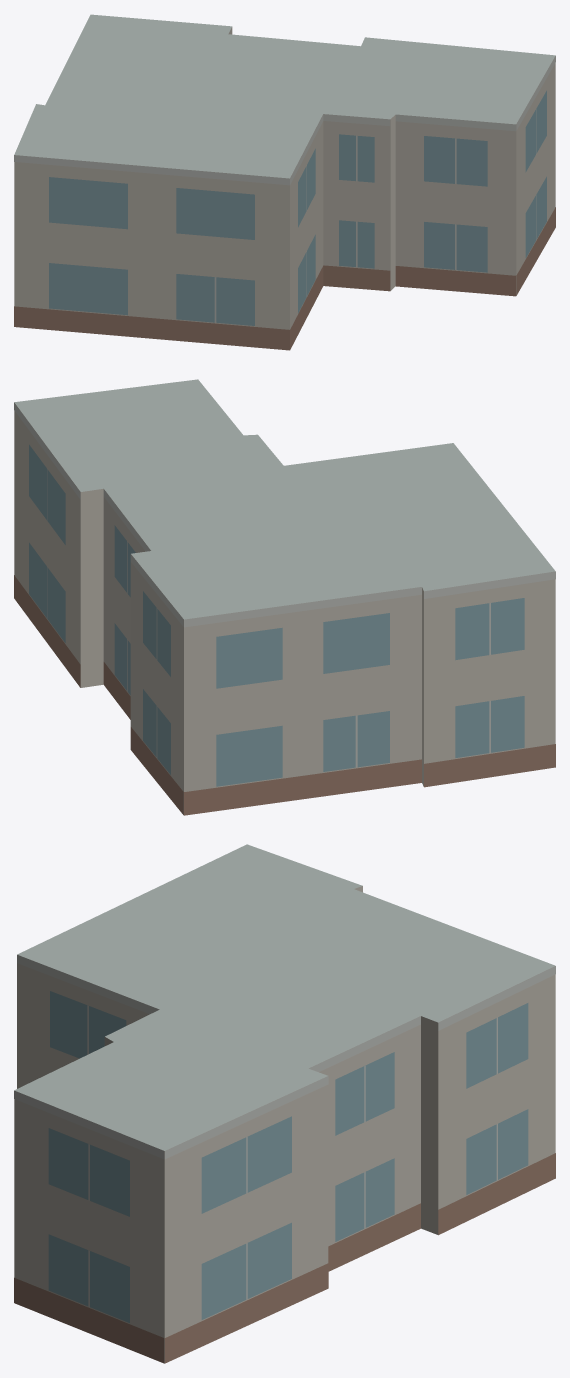
The model's file is survey-upis-32667579.glb.
3 views of the same model, one above another, from view 1: azimuth 30°, elevation 25°; view 2: azimuth 150°, elevation 25°; view 3: azimuth 270°, elevation 25° (orthographic). The views are drawn at different scales.
Parts seen in each view (by area): view 1: survey-upis-32667579.tmp; view 2: survey-upis-32667579.tmp; view 3: survey-upis-32667579.tmp.
Part boxes in pixels (x1,y1,x2,y2): survey-upis-32667579.tmp: (14,14,555,350); survey-upis-32667579.tmp: (14,379,555,815); survey-upis-32667579.tmp: (14,844,555,1363).
Bounding box in the file's own units: 18.89 × 6.1 × 14.09.
